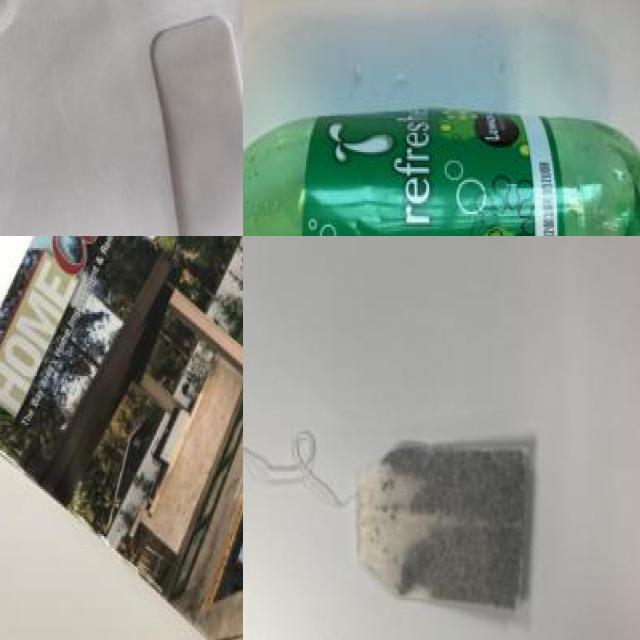compost: (243, 335, 551, 636)
paper: (0, 236, 243, 640), (0, 0, 243, 236)
plastic: (243, 103, 640, 236)
